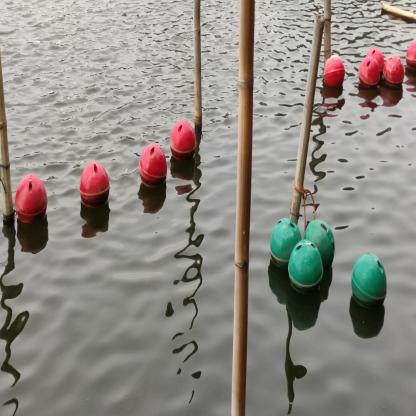green_buoy: (350, 250, 388, 316), (288, 238, 324, 294), (269, 217, 303, 270), (303, 218, 335, 273)
red_buoy: (14, 174, 50, 224), (79, 160, 111, 210), (139, 142, 168, 188), (170, 119, 198, 163), (323, 53, 346, 88), (358, 55, 381, 88), (382, 55, 404, 88), (366, 48, 385, 75), (405, 40, 416, 72)
